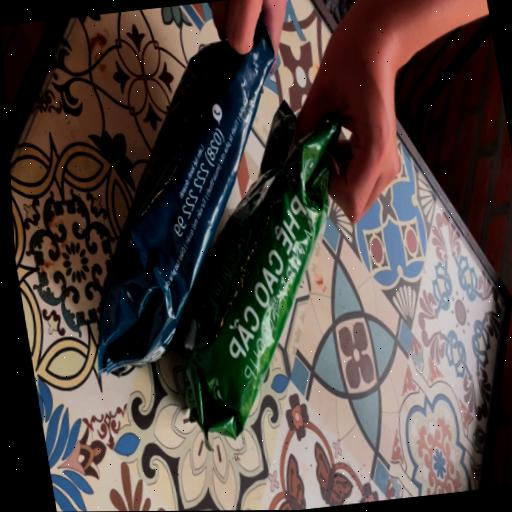cafe_hat: (97, 22, 275, 373)
cafe_xay: (176, 103, 339, 450)
